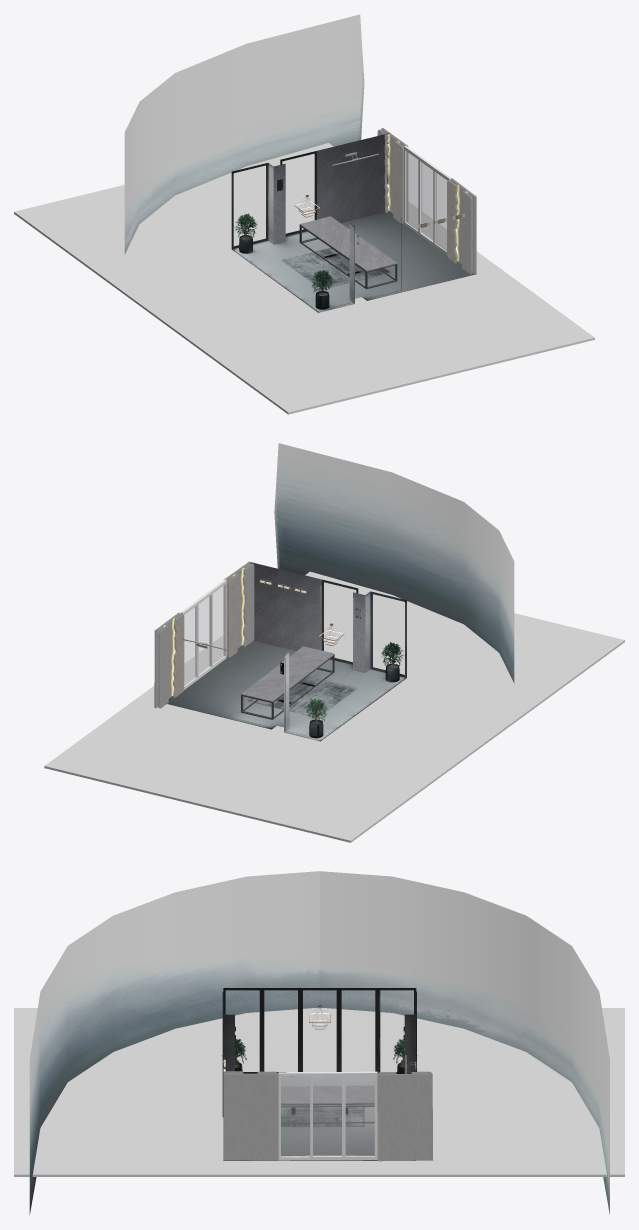
The model's file is class.glb.
3 views of the same model, one above another, from view 1: azimuth 30°, elevation 25°; view 2: azimuth 150°, elevation 25°; view 3: azimuth 270°, elevation 25° (orthographic). The views are drawn at different scales.
Visible parts, largest first — view 1: Cube.001, Minimalistic Modern Office_Background_0, Minimalistic Modern Office_Structure_0, Modern_Lighting_Decor_Modern_Lighting_Decor_0, Material2.001, Carpet_Carpet_0, Object_12, Minimalistic Modern Office_Plants_0, Object_8.001, Object_6.001, Object_4.001, Material2; view 2: Cube.001, Minimalistic Modern Office_Background_0, Minimalistic Modern Office_Structure_0, Modern_Lighting_Decor_Modern_Lighting_Decor_0, Material2.001, Carpet_Carpet_0, Object_12, Minimalistic Modern Office_Plants_0, Object_8.001, Object_4.001, Object_6.001, Material2; view 3: Minimalistic Modern Office_Background_0, Cube.001, Modern_Lighting_Decor_Modern_Lighting_Decor_0, Minimalistic Modern Office_Structure_0, Object_8.001, Object_6.001, Object_4.001, Object_12, Material2.001, Carpet_Carpet_0, Minimalistic Modern Office_Plants_0, Material2.
Boxes of the visible parts, box(x1,y1,x2,y2) form: Cube.001: box(14, 143, 594, 414); Minimalistic Modern Office_Background_0: box(124, 14, 364, 254); Minimalistic Modern Office_Structure_0: box(231, 133, 476, 312); Modern_Lighting_Decor_Modern_Lighting_Decor_0: box(377, 128, 476, 274); Material2.001: box(299, 216, 397, 271); Carpet_Carpet_0: box(281, 248, 390, 288); Object_12: box(404, 146, 451, 254); Minimalistic Modern Office_Plants_0: box(232, 213, 332, 309); Object_8.001: box(406, 151, 417, 230); Object_6.001: box(421, 162, 432, 240); Object_4.001: box(435, 172, 447, 251); Material2: box(299, 225, 397, 289); Cube.001: box(44, 571, 624, 842); Minimalistic Modern Office_Background_0: box(274, 443, 514, 683); Minimalistic Modern Office_Structure_0: box(167, 561, 406, 741); Modern_Lighting_Decor_Modern_Lighting_Decor_0: box(154, 562, 254, 708); Material2.001: box(241, 646, 334, 702); Carpet_Carpet_0: box(248, 676, 357, 716); Object_12: box(181, 579, 226, 690); Minimalistic Modern Office_Plants_0: box(306, 642, 406, 738); Object_8.001: box(184, 606, 196, 685); Object_4.001: box(213, 585, 224, 664); Object_6.001: box(199, 596, 210, 674); Material2: box(241, 655, 334, 719); Minimalistic Modern Office_Background_0: box(29, 871, 609, 1214); Cube.001: box(14, 1008, 624, 1176); Modern_Lighting_Decor_Modern_Lighting_Decor_0: box(223, 1071, 433, 1161); Minimalistic Modern Office_Structure_0: box(222, 988, 416, 1160); Object_8.001: box(346, 1077, 374, 1156); Object_6.001: box(313, 1077, 341, 1156); Object_4.001: box(281, 1077, 309, 1156); Object_12: box(278, 1071, 377, 1160); Material2.001: box(281, 1085, 374, 1104); Carpet_Carpet_0: box(281, 1104, 364, 1126); Minimalistic Modern Office_Plants_0: box(221, 1039, 417, 1073); Material2: box(281, 1103, 374, 1123).
Bounding box in the file's own units: 8.84 × 3.6 × 12.2.
22 materials, 10 textured.
